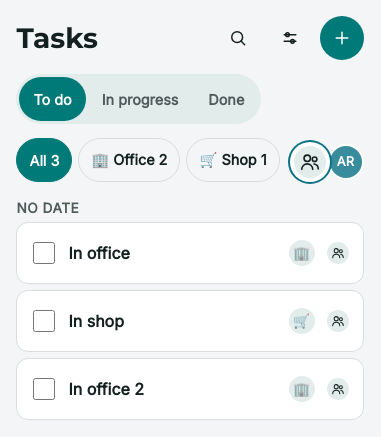
Test case: TasksPage › category chips filter the list and count the tasks of each category
The width and height of the screenshot is (381, 437).
Expected: the text "In office" is shown, [68,243,130,263]
Click the button "🏢 Office 2" at (129, 160), box [78,138,180,182]
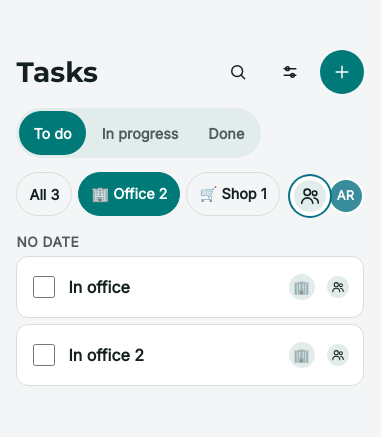
Expected: the text "In office 2" is shown, [68,345,144,365]
Result: the button "In shop" is gone
